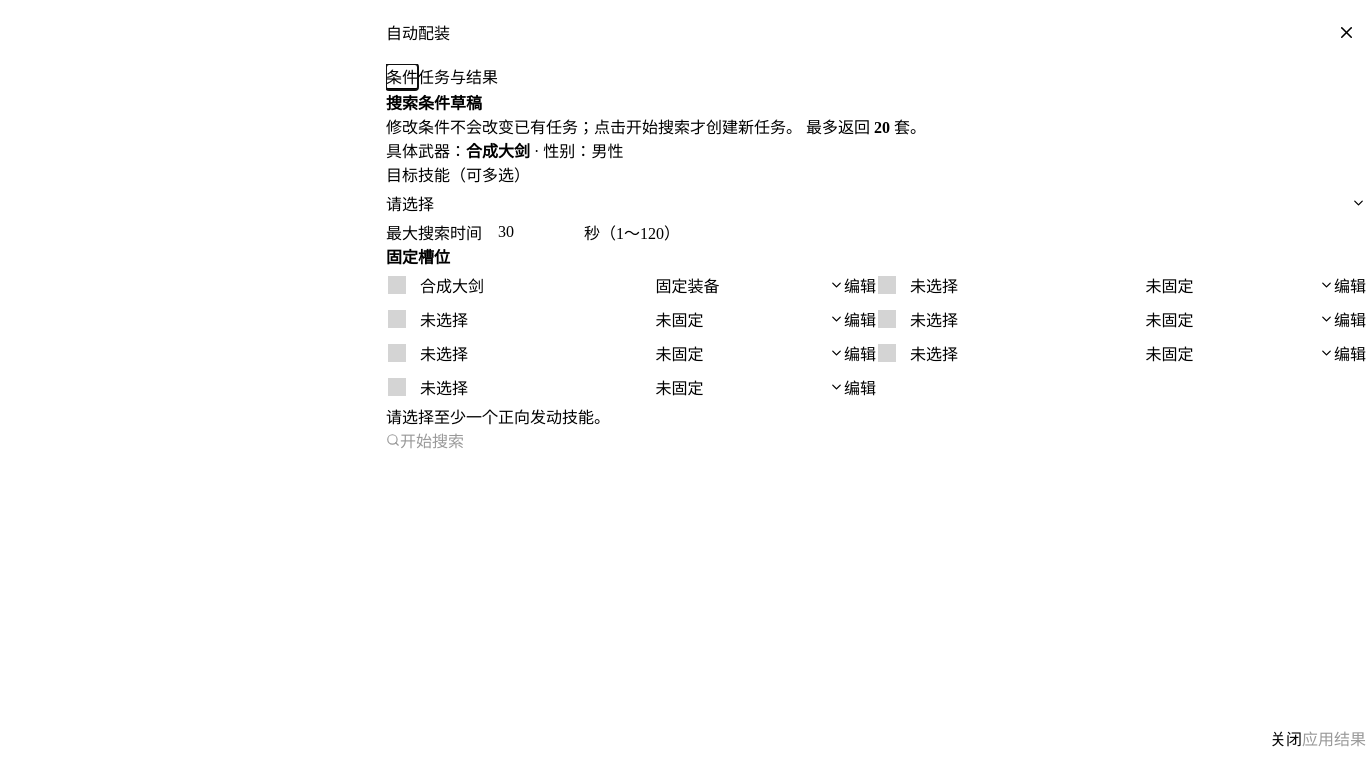
it: session-only search condition draft › shows recoverable picker errors and can clear a slot without starting a task
Click the button with aria-label "编辑搜索武器" at (860, 285), box [844,273,876,297]
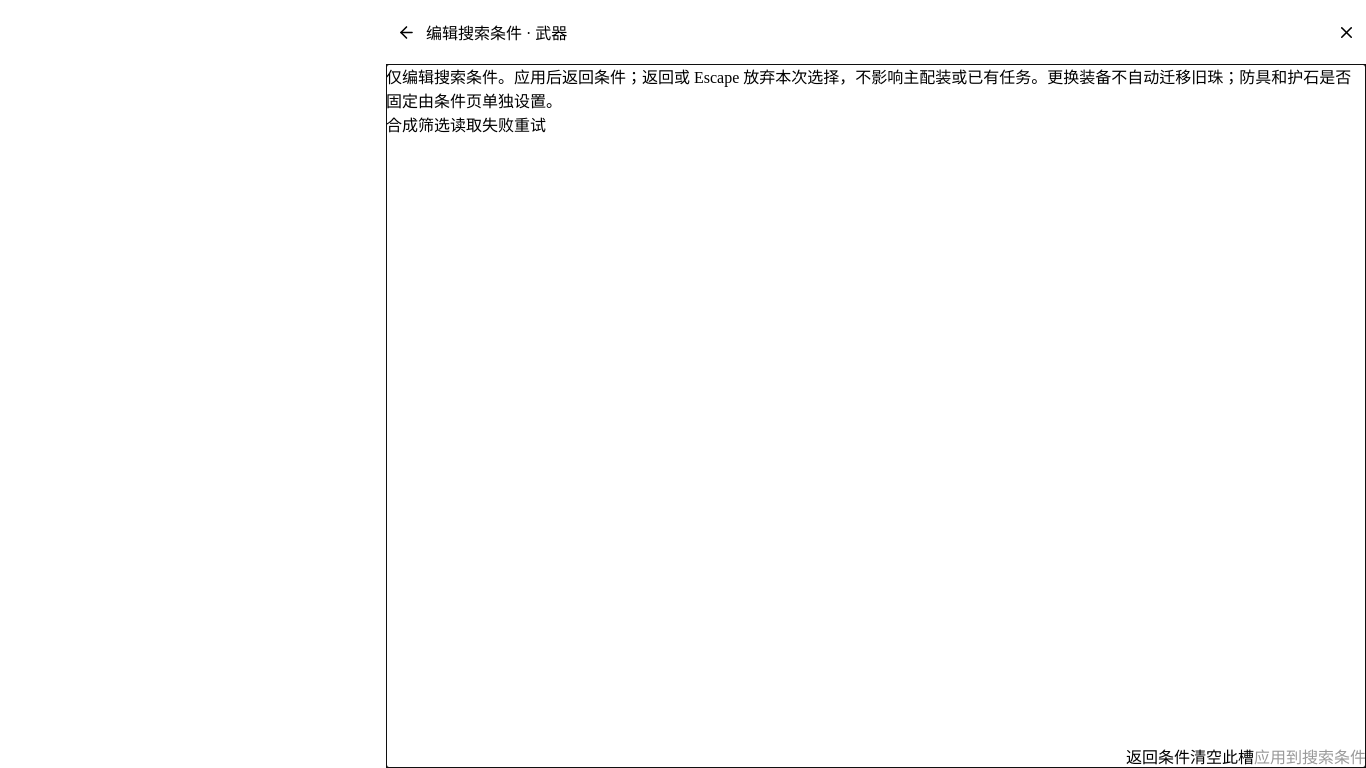
expect the message shows "合成筛选读取失败": met, box [386,117,514,134]
expect the button "应用到搜索条件" is disabled: met, box [1254,744,1365,767]
Click the button "重试" at (530, 124), box [514,112,546,136]
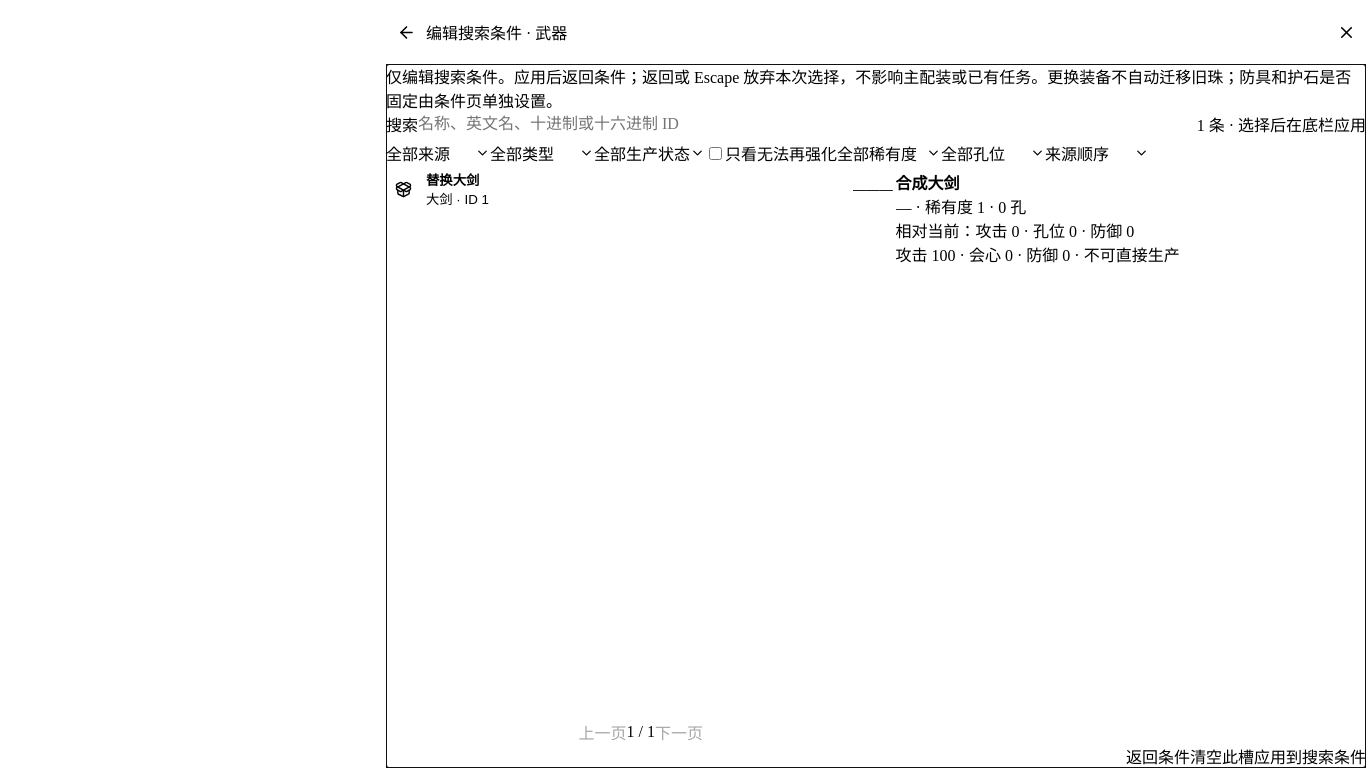
expect the button "替换大剑 大剑 · ID 1 — — —" is shown: met, box [386,170,896,208]
Click the button "清空此槽" at (1222, 756), box [1190,744,1254,767]
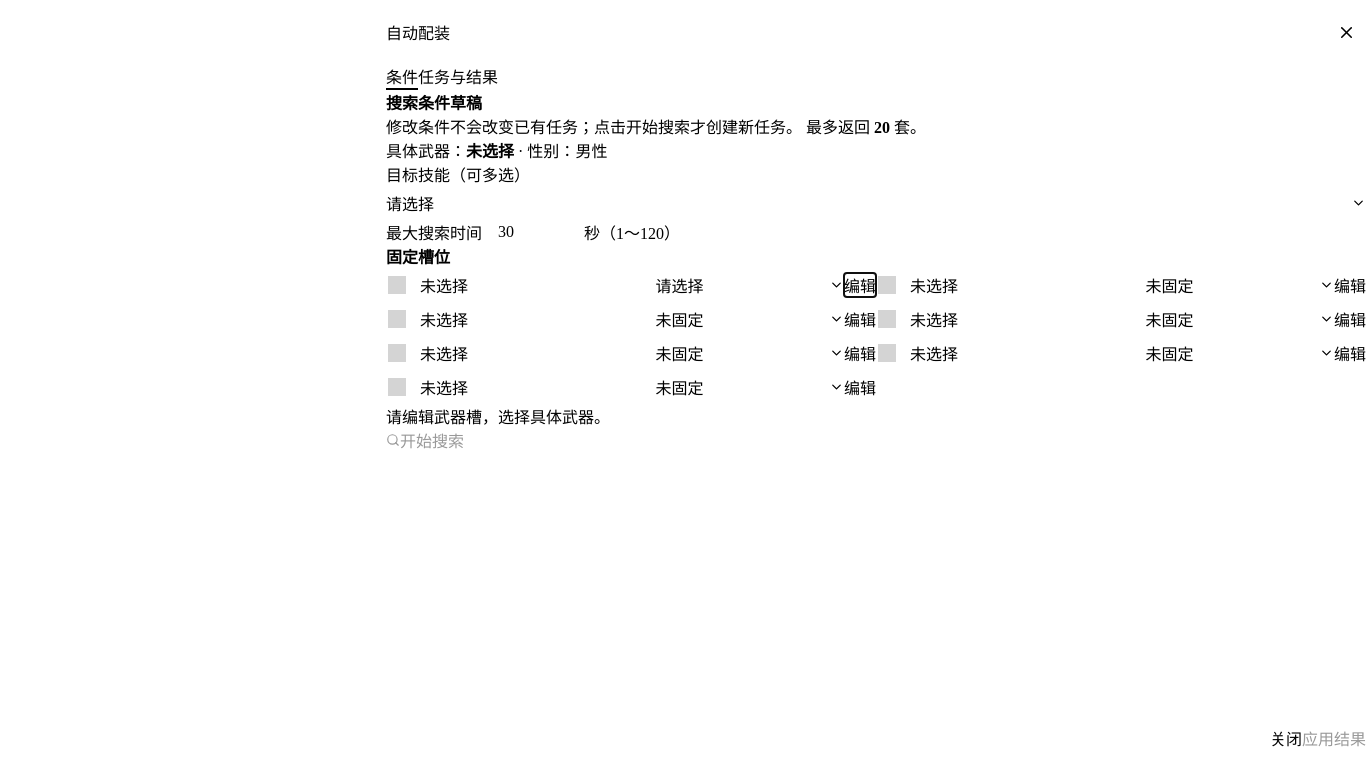
expect the button "开始搜索" is disabled: met, box [386,428,464,452]
